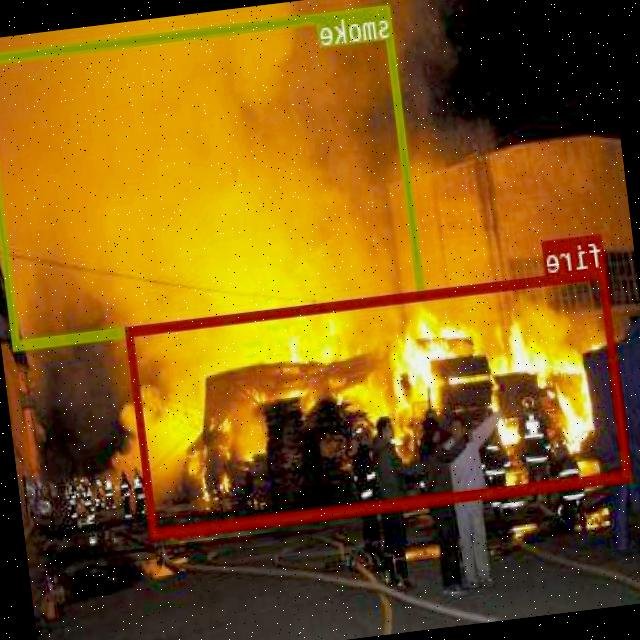fire: (127, 266, 632, 536)
smoke: (0, 2, 426, 348)
